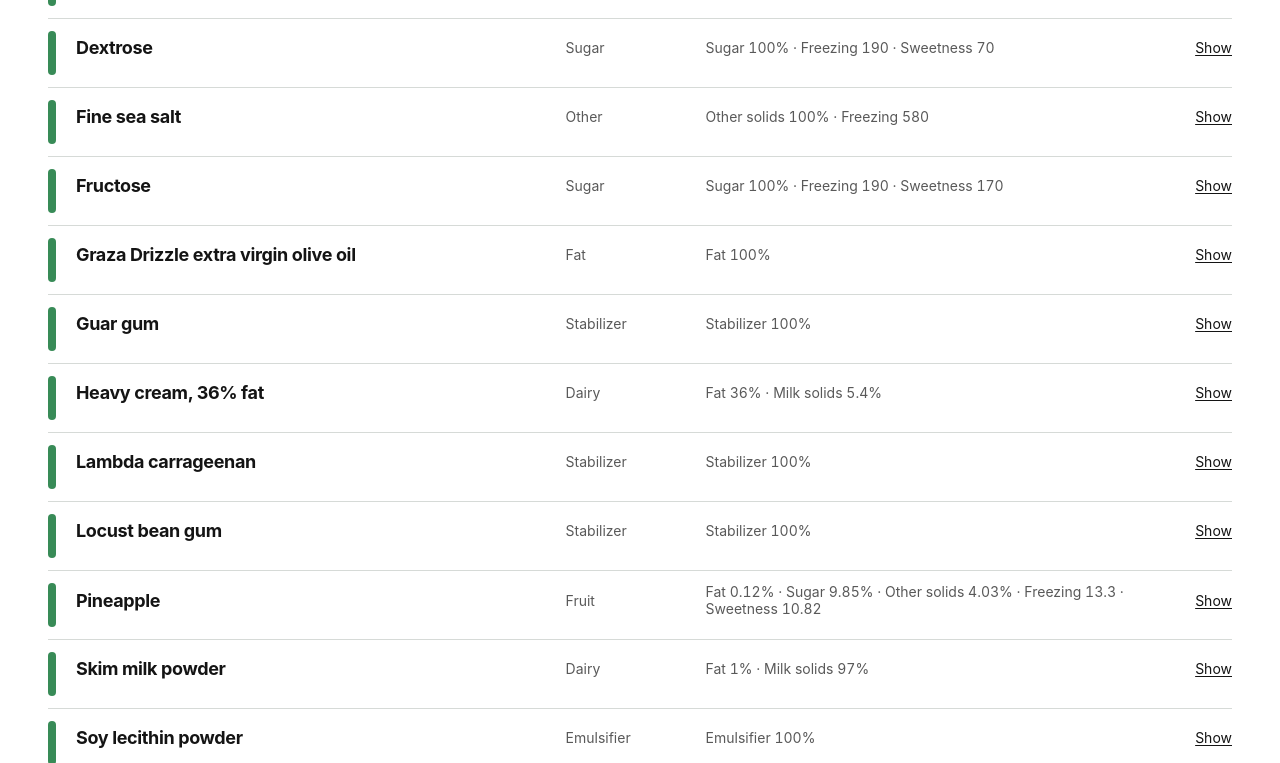
Scenario: opening an entry › toggles the fold: aria-expanded, Show and Hide, and the detail with the id the head controls
(page scrolled)
Click the button with class "ing__head" showing "Heavy cream, 36% fat Show" at [170, 392], box [76, 370, 1232, 414]
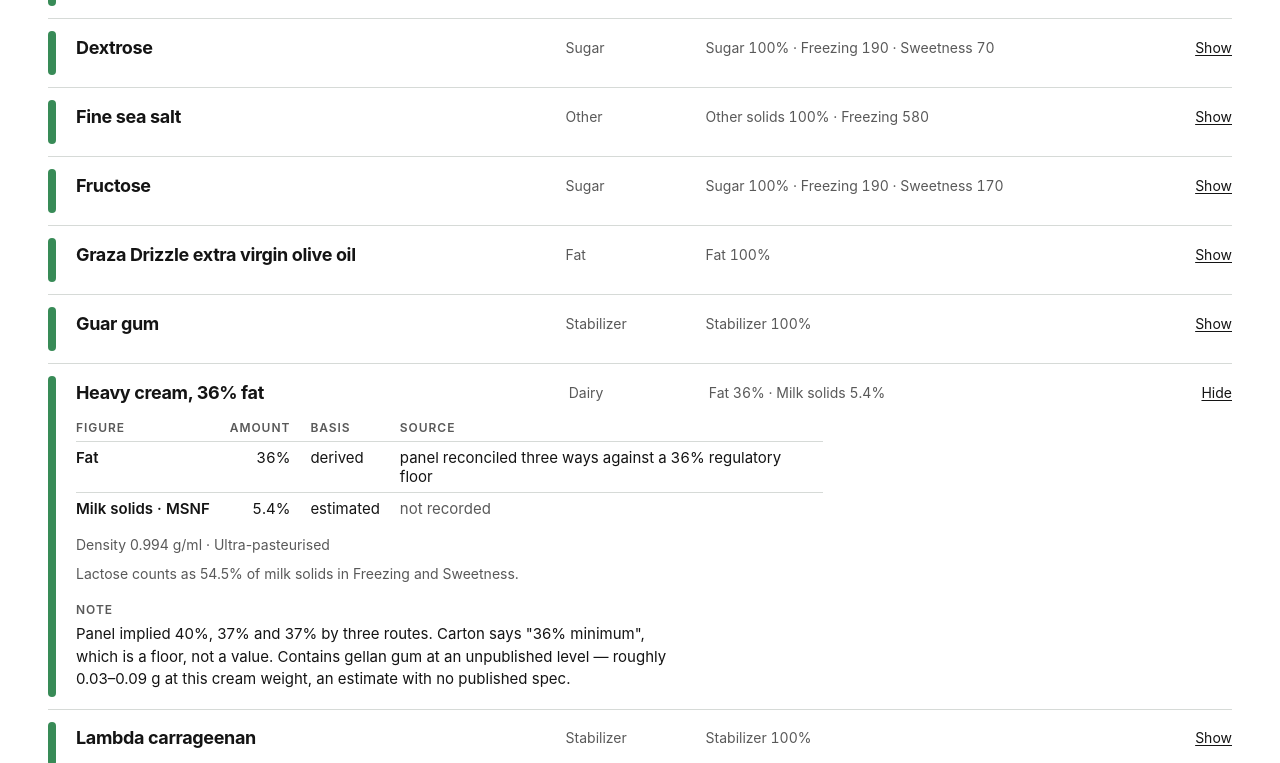
Now the button with class "ing__head" is expanded
Now the text with class "ing__control" reads "Hide", box [1202, 384, 1232, 401]
Click the button with class "ing__head" showing "Heavy cream, 36% fat Hide" at [170, 392], box [76, 370, 1232, 414]
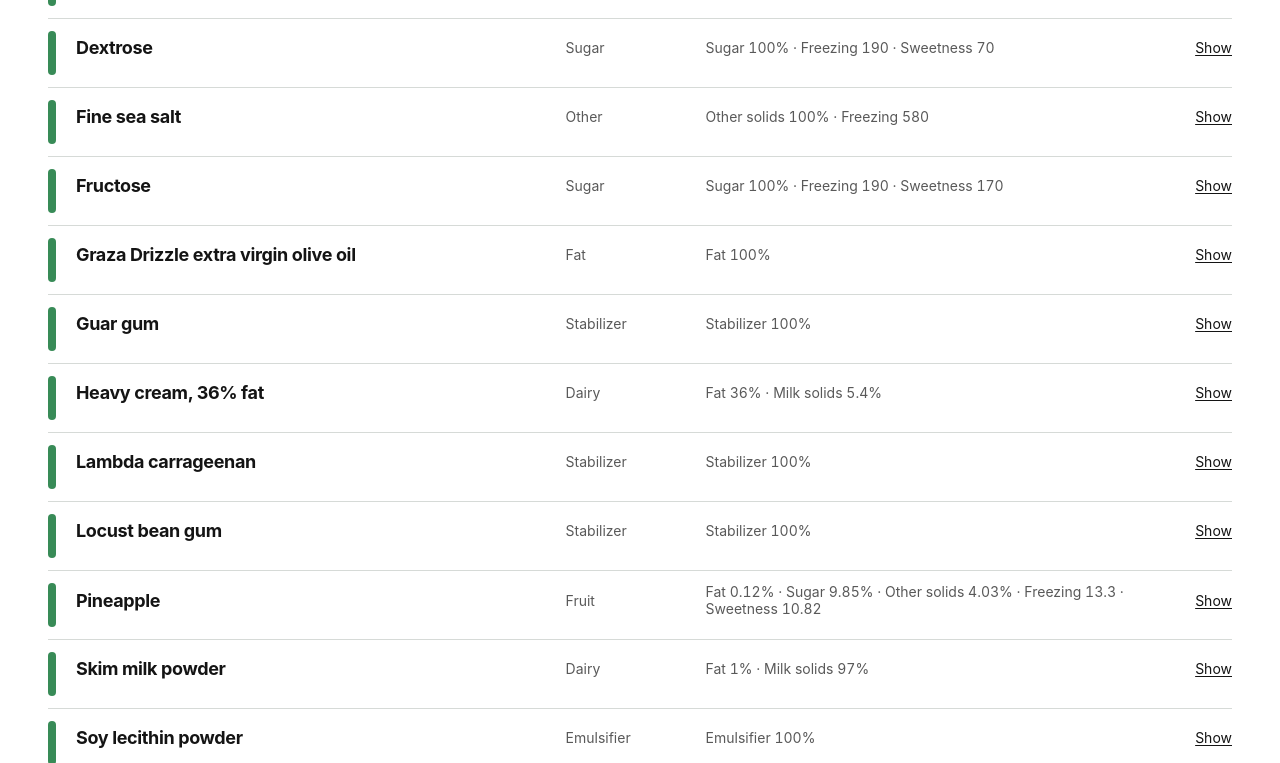
Now the button with class "ing__head" is collapsed, box [76, 370, 1232, 414]
Now the element with class "ing__detail" is gone
